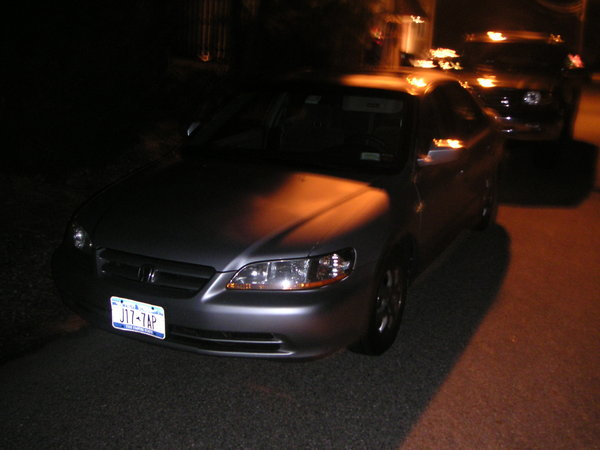car: (447, 18, 589, 175)
